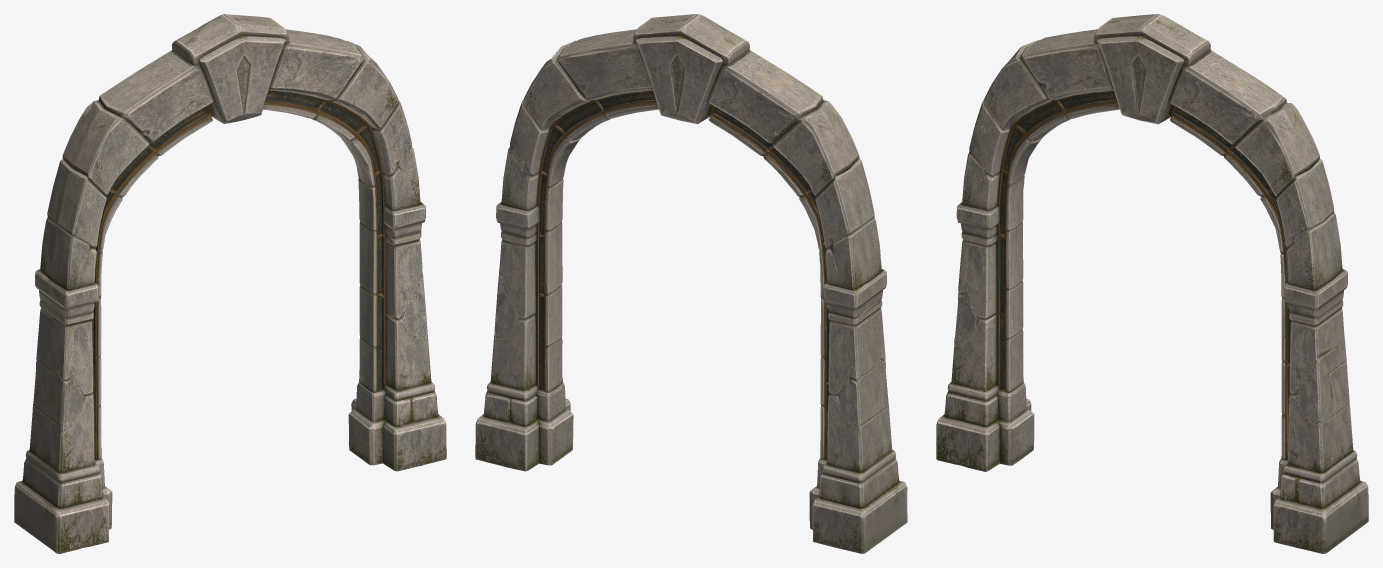
Rendered from realm_gate_frame.glb.
3 views of the same model, side by side, from view 1: azimuth 30°, elevation 25°; view 2: azimuth 150°, elevation 25°; view 3: azimuth 330°, elevation 25° (orthographic).
Parts seen in each view (by area): view 1: RealmGateStoneFrame; view 2: RealmGateStoneFrame; view 3: RealmGateStoneFrame.
Boxes of the visible parts, <box> form: RealmGateStoneFrame: <box>14,14,446,553</box>; RealmGateStoneFrame: <box>475,14,907,553</box>; RealmGateStoneFrame: <box>936,14,1368,553</box>.
Size of the model in its own units: 4.5 by 5.2 by 0.9.
Materials: 1 (1 with a texture image).
